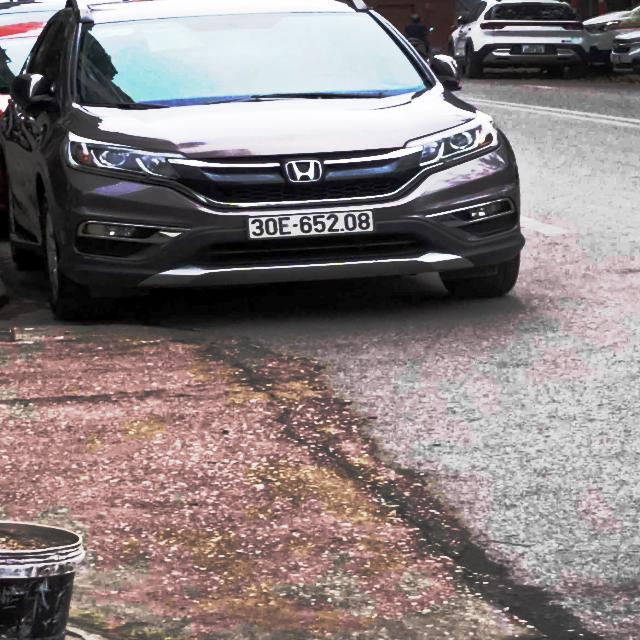license_plate: (247, 209, 376, 242)
